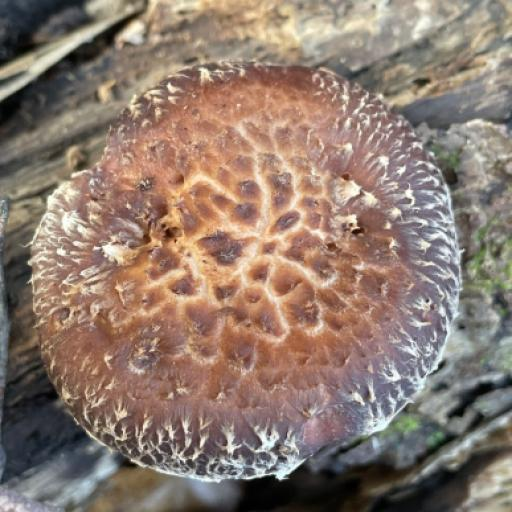Shiitake Mushroom: (12, 41, 466, 490)
